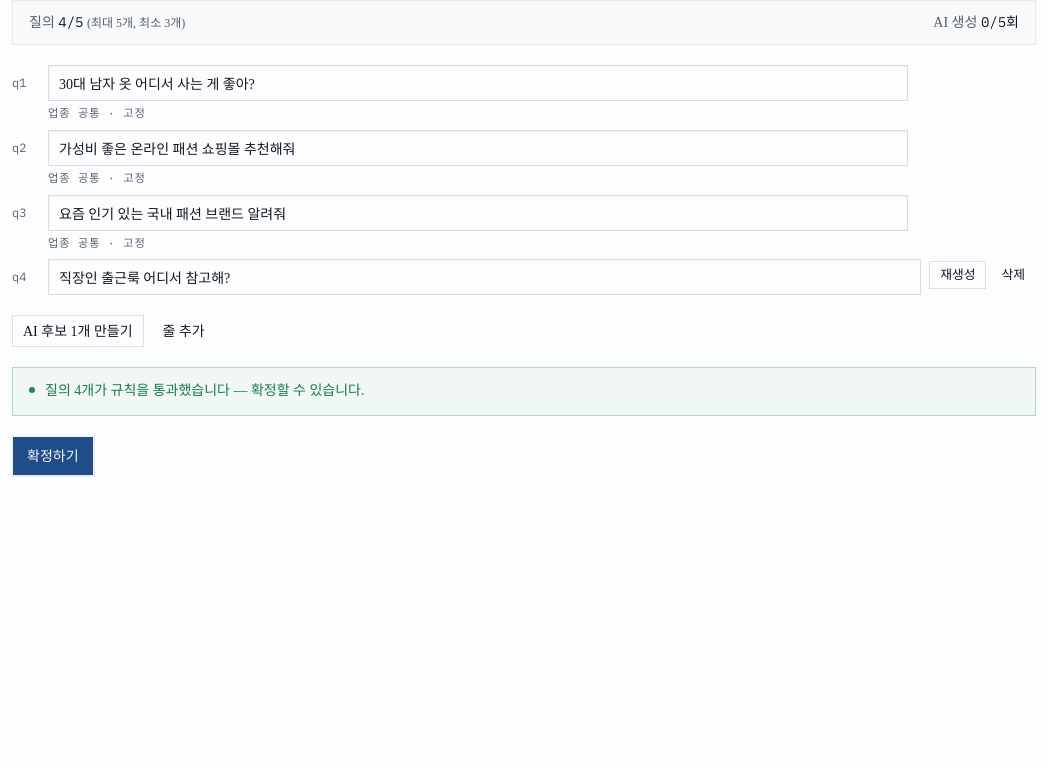
QueryEditor — 동결 › 서버가 거절하면 이유를 보여주고 화면에 남는다
What coordinates should you click on to do the following:
click the button "확정하기"
I would click on:
 (53, 456)
Its box is [12,436,94,476].
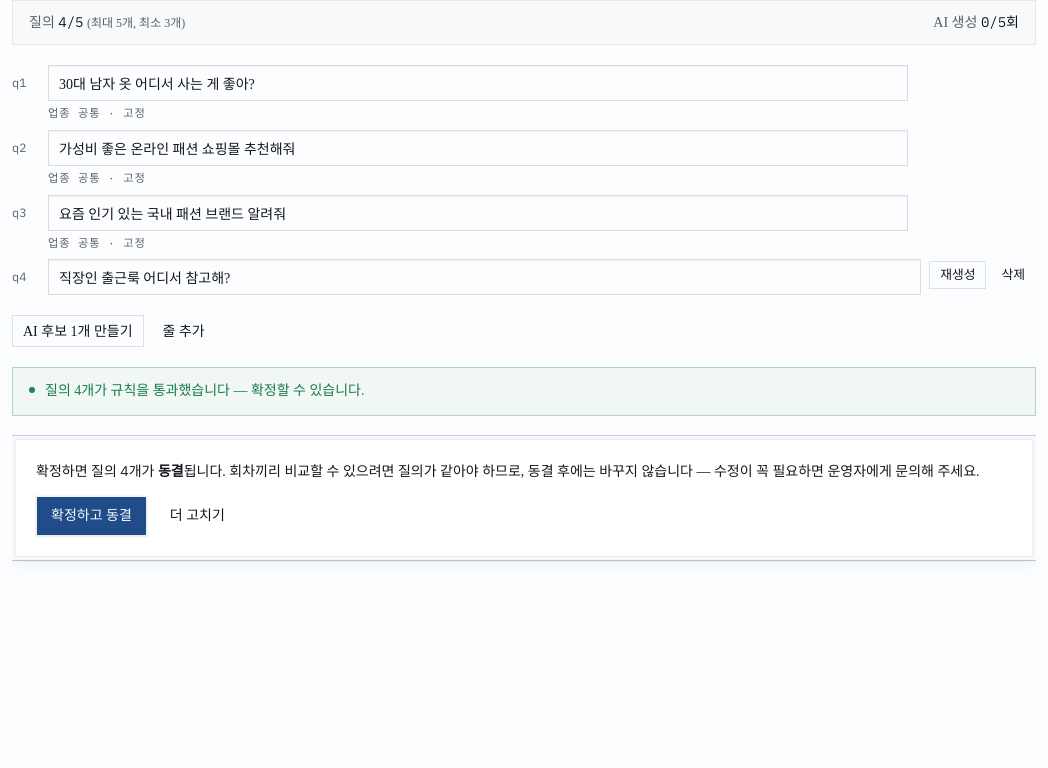
What coordinates should you click on to do the following:
click the button "확정하고 동결"
I would click on:
 (91, 516)
Its box is [36,496,147,536].
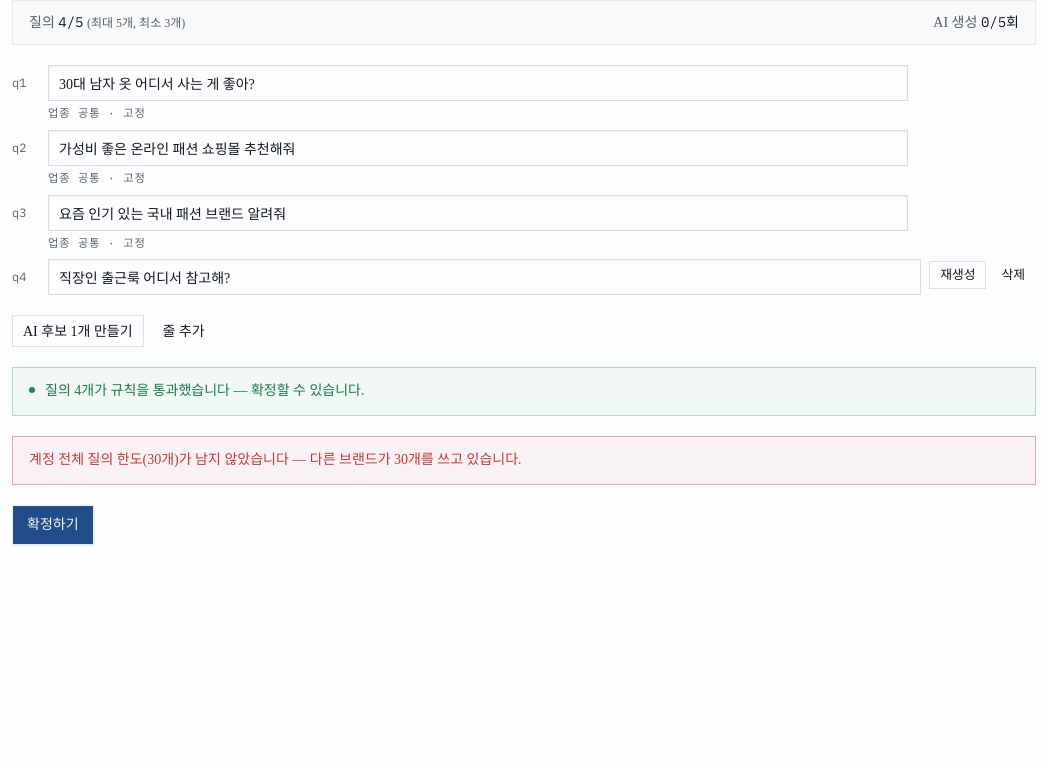
Now the message "계정 전체 질의 한도(30개)가 남지 않았습니다 — 다른 브랜드가 30개를 쓰고 있습니다." is shown, box [12,436,1036,485]
